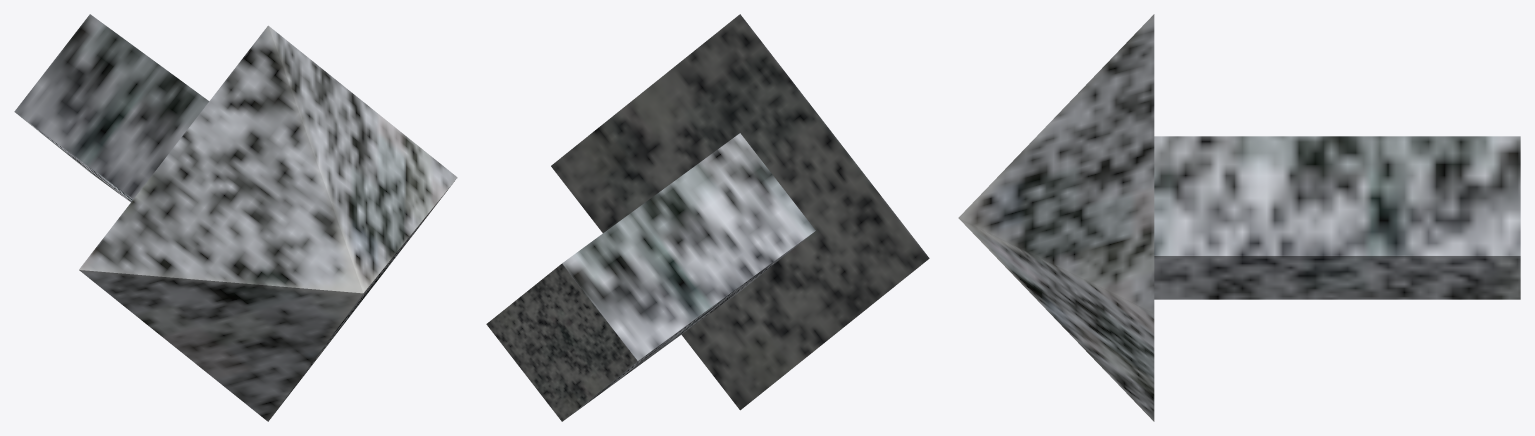
File: cursor.FBX
3 renders of one model, left to right at view 1: azimuth 30°, elevation 25°; view 2: azimuth 150°, elevation 25°; view 3: azimuth 270°, elevation 25°, orthographic. The views are drawn at different scales.
Visible parts, largest first — view 1: cursor; view 2: cursor; view 3: cursor.
Boxes of the visible parts, left/top/right/bottom form: cursor: left=14, top=14, right=457, bottom=421; cursor: left=486, top=14, right=929, bottom=421; cursor: left=958, top=14, right=1520, bottom=421.
Size of the model in its own units: 70.71 by 70.71 by 88.35.
1 material, 1 textured.
